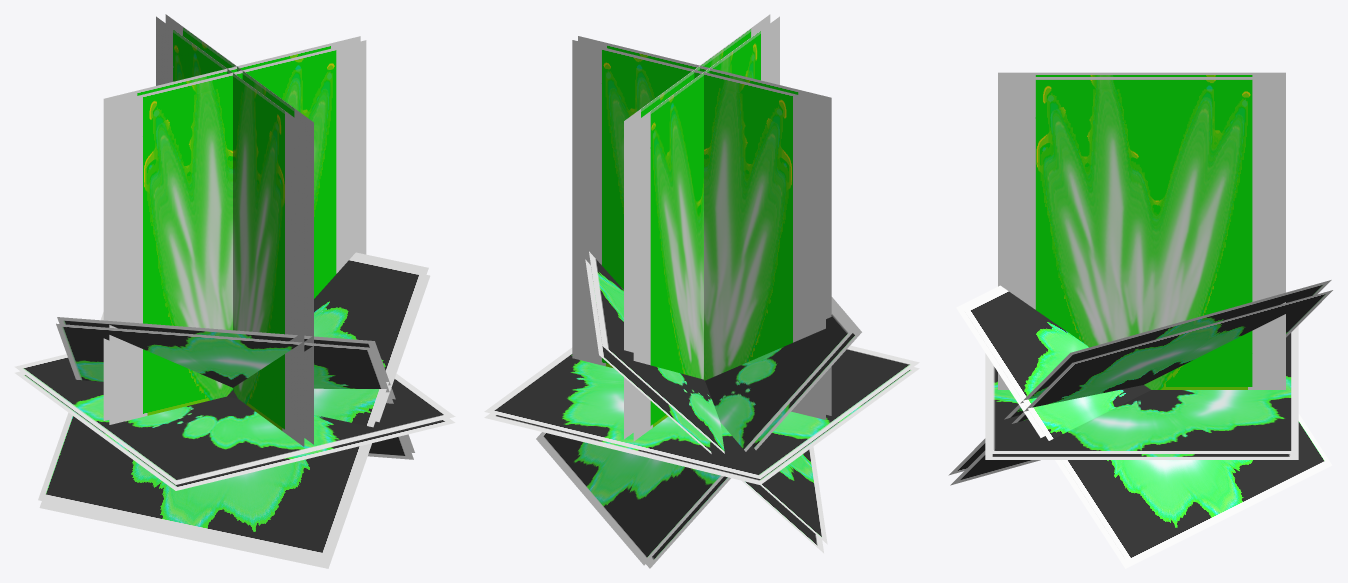
The model's file is BigDamage.fbx.
3 renders of one model, left to right at view 1: azimuth 30°, elevation 25°; view 2: azimuth 150°, elevation 25°; view 3: azimuth 270°, elevation 25°, orthographic. The views are drawn at different scales.
Parts seen in each view (by area): view 1: polymsh2; view 2: polymsh2; view 3: polymsh2.
Boxes of the visible parts, x1,y1,x2,y2 form: polymsh2: [14, 14, 455, 568]; polymsh2: [484, 14, 919, 568]; polymsh2: [948, 72, 1332, 568].
Bounding box in the file's own units: 23.61 × 27.85 × 23.55.
2 materials, 2 textured.
